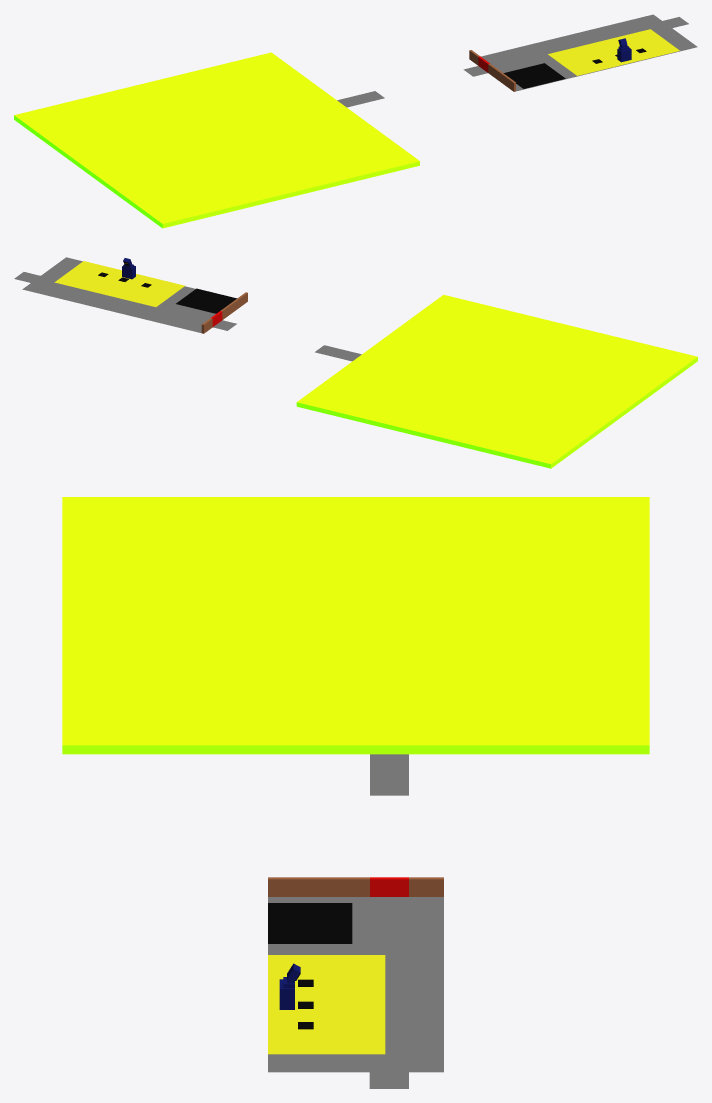
The model's file is TiendaTuto.fbx.
3 renders of one model, top to bottom at view 1: azimuth 30°, elevation 25°; view 2: azimuth 150°, elevation 25°; view 3: azimuth 270°, elevation 25°, orthographic. The views are drawn at different scales.
Parts seen in each view (by area): view 1: RoomTransitionBoss, Suelo__71_, Suelo__69_, Suelo__70_, Suelo__82_; view 2: RoomTransitionBoss, Suelo__71_, Suelo__69_, Suelo__70_, Suelo__82_; view 3: RoomTransitionBoss, Suelo__71_, Suelo__69_, Suelo__70_, Wall__27_, Suelo__82_.
Part boxes in pixels (box(x1,y1,x2,y2)): RoomTransitionBoss: box(14, 52, 419, 228); Suelo__71_: box(481, 14, 697, 91); Suelo__69_: box(548, 29, 679, 75); Suelo__70_: box(503, 63, 565, 88); Suelo__82_: box(337, 91, 384, 107); RoomTransitionBoss: box(296, 294, 697, 468); Suelo__71_: box(22, 257, 215, 333); Suelo__69_: box(54, 261, 184, 306); Suelo__70_: box(176, 288, 236, 313); Suelo__82_: box(315, 345, 361, 361); RoomTransitionBoss: box(62, 497, 649, 754); Suelo__71_: box(268, 897, 443, 1072); Suelo__69_: box(268, 955, 385, 1054); Suelo__70_: box(268, 903, 352, 943); Wall__27_: box(268, 877, 369, 896); Suelo__82_: box(370, 754, 408, 795).
Bounding box in the file's own units: 28175 × 903 × 12000.
